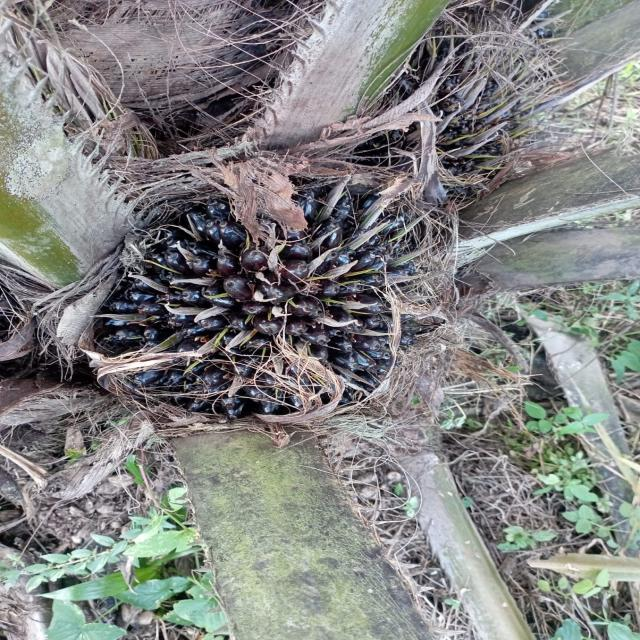fraksi 00: (32, 128, 517, 477)
